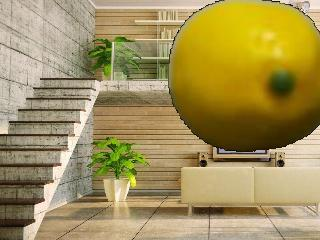lemon: (169, 0, 320, 151)
